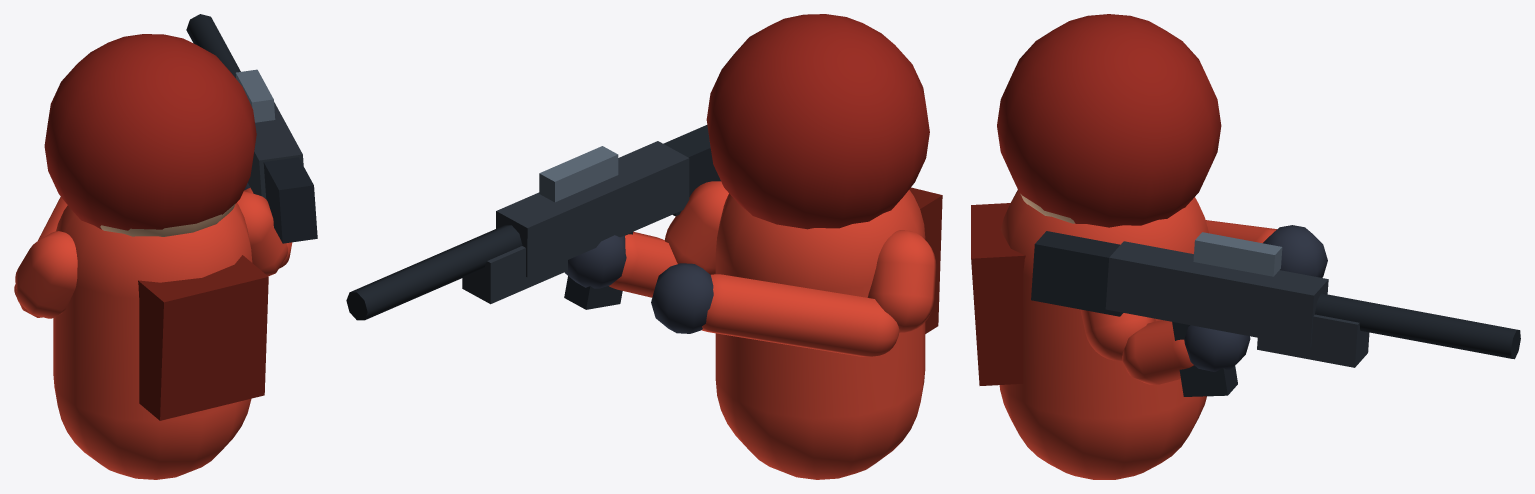
The model's file is original_red_body.glb.
3 renders of one model, left to right at view 1: azimuth 30°, elevation 25°; view 2: azimuth 150°, elevation 25°; view 3: azimuth 270°, elevation 25°, orthographic. The views are drawn at different scales.
Visible parts, largest first — view 1: original_red_body; view 2: original_red_body; view 3: original_red_body.
Boxes of the visible parts, <box> form: original_red_body: <box>14,14,317,479</box>; original_red_body: <box>346,14,942,479</box>; original_red_body: <box>971,14,1520,479</box>.
Size of the model in its own units: 0.9716 by 1.05 by 1.17.
1 material, 1 textured.
